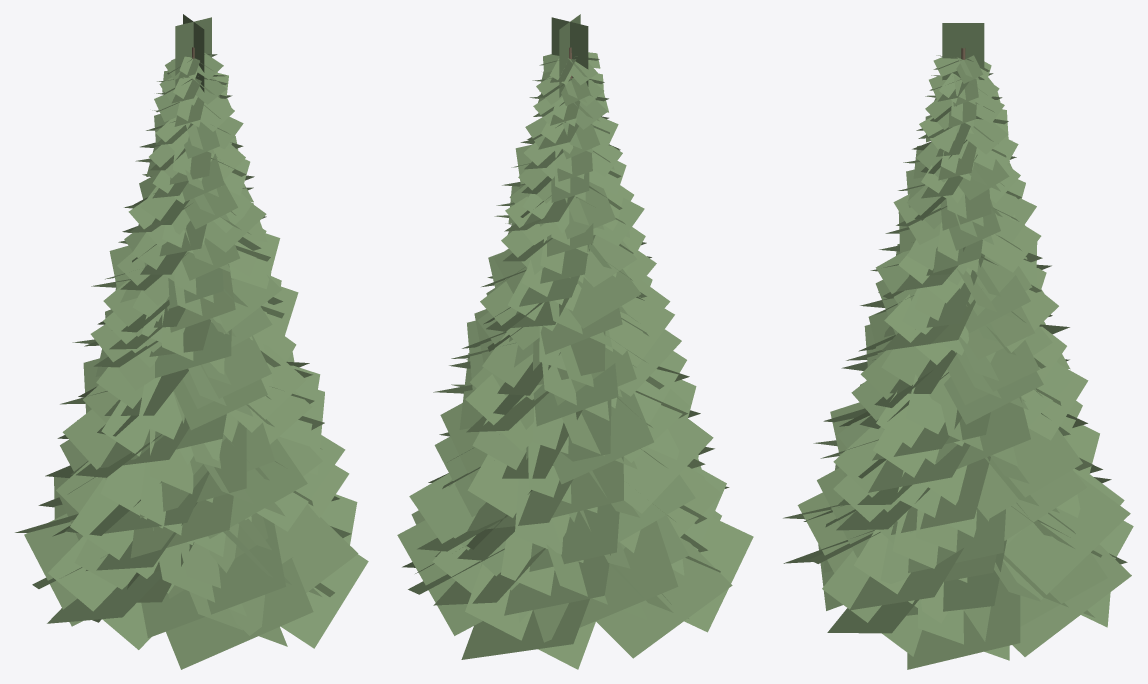
File: SM_Pine_A.fbx
3 renders of one model, left to right at view 1: azimuth 30°, elevation 25°; view 2: azimuth 150°, elevation 25°; view 3: azimuth 270°, elevation 25°, orthographic.
Parts seen in each view (by area): view 1: SM_Pine_A; view 2: SM_Pine_A; view 3: SM_Pine_A.
Part boxes in pixels (box(x1,y1,x2,y2)): SM_Pine_A: box(15, 14, 368, 669); SM_Pine_A: box(397, 14, 753, 669); SM_Pine_A: box(783, 23, 1133, 669).
Bounding box in the file's own units: 7.56 × 14.02 × 7.54.
